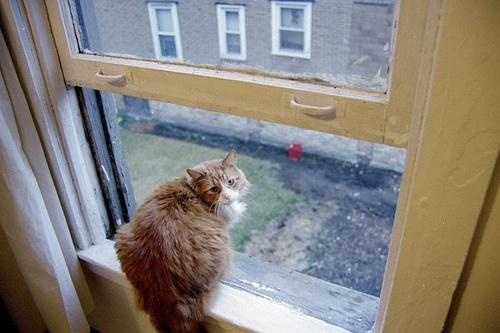cat: (112, 148, 252, 333)
